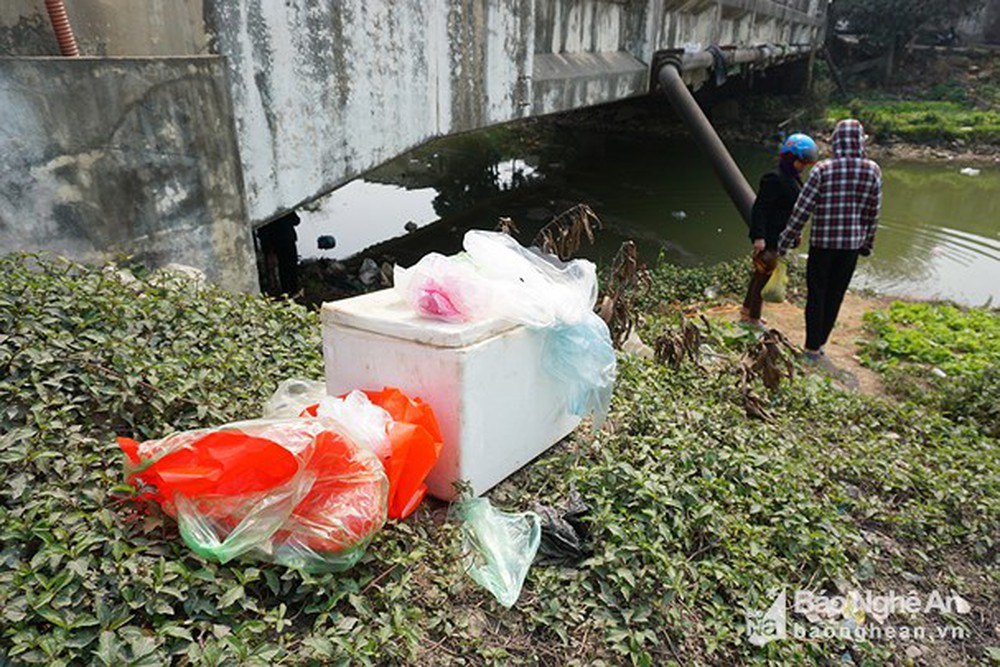plastic bag: (114, 378, 446, 569), (391, 226, 596, 325), (453, 495, 542, 614), (542, 315, 617, 435)
